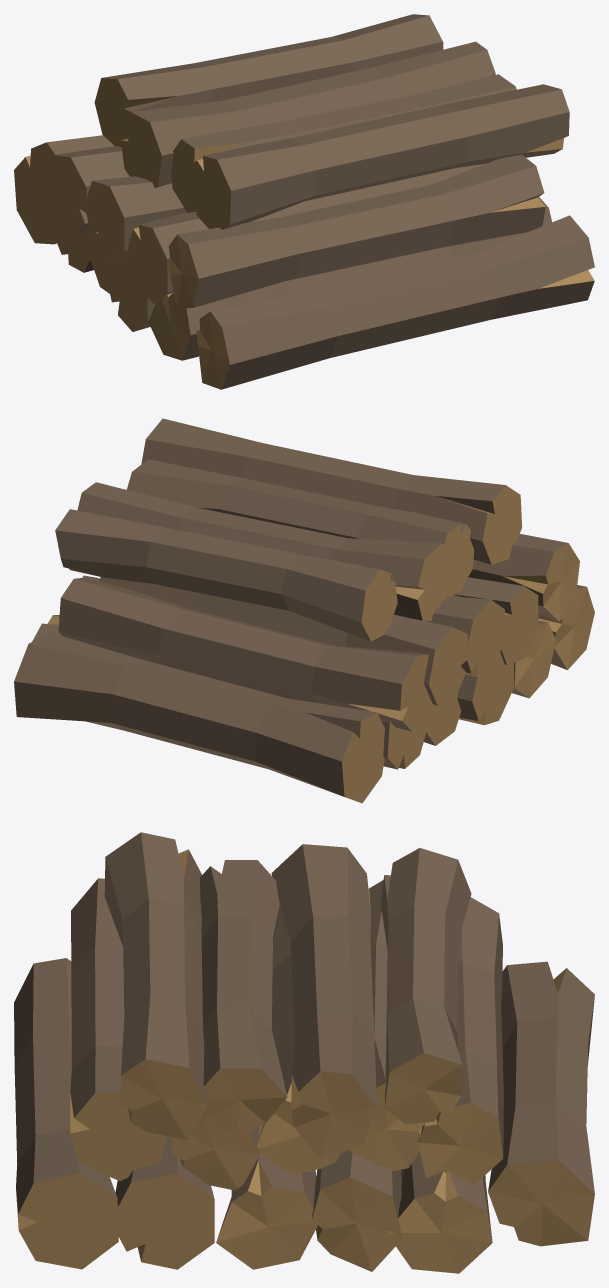
File: Firewood_Stack.fbx
The picture shows the model from 3 angles, top to bottom: view 1: azimuth 30°, elevation 25°; view 2: azimuth 150°, elevation 25°; view 3: azimuth 270°, elevation 25°; orthographic projection. The views are drawn at different scales.
Visible parts, largest first — view 1: Firewood_Stack; view 2: Firewood_Stack; view 3: Firewood_Stack.
Part boxes in pixels (x1=…): Firewood_Stack: x1=14, y1=14, x2=594, y2=389; Firewood_Stack: x1=14, y1=418, x2=594, y2=803; Firewood_Stack: x1=14, y1=832, x2=594, y2=1273.
Size of the model in its own units: 243 by 117 by 252.
